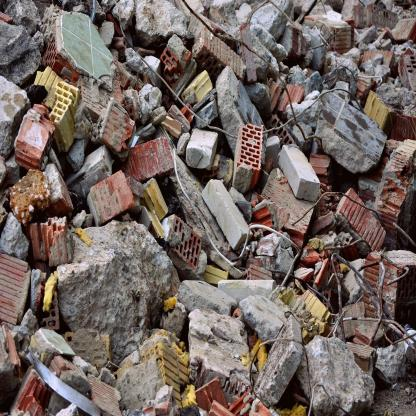brick: (1, 2, 414, 416), (190, 0, 414, 140), (119, 2, 292, 136), (290, 195, 415, 305), (308, 323, 413, 415), (253, 315, 310, 415), (383, 260, 415, 328), (337, 268, 380, 316), (278, 3, 310, 19), (365, 265, 382, 293)
